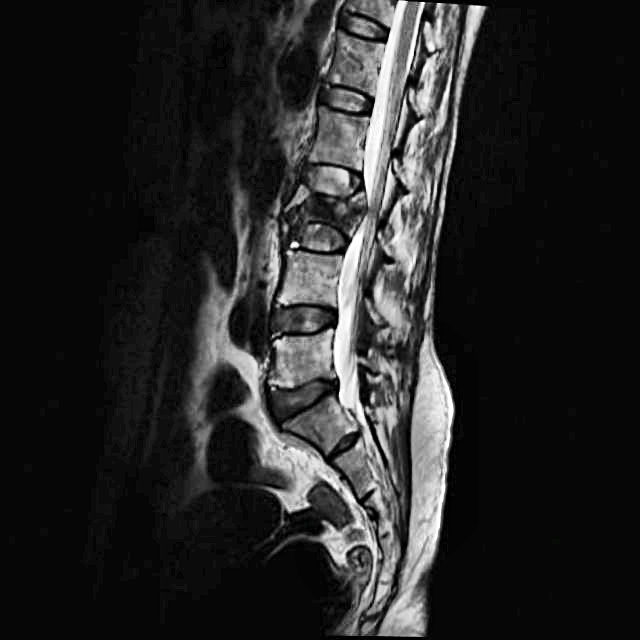Comminuted: (274, 151, 374, 263)
